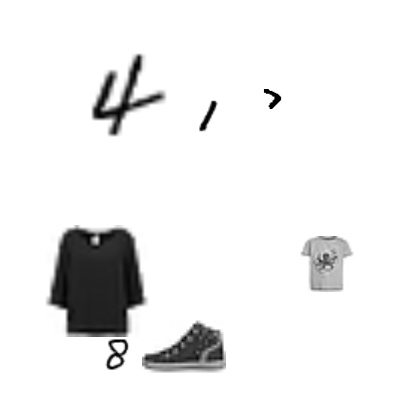1: (186, 95, 228, 137)
4: (65, 39, 177, 151)
7: (259, 84, 287, 112)
8: (95, 332, 137, 374)
Shirt: (39, 225, 151, 337)
Sneaker: (142, 303, 226, 387)
T-shirt/top: (299, 236, 355, 292)
